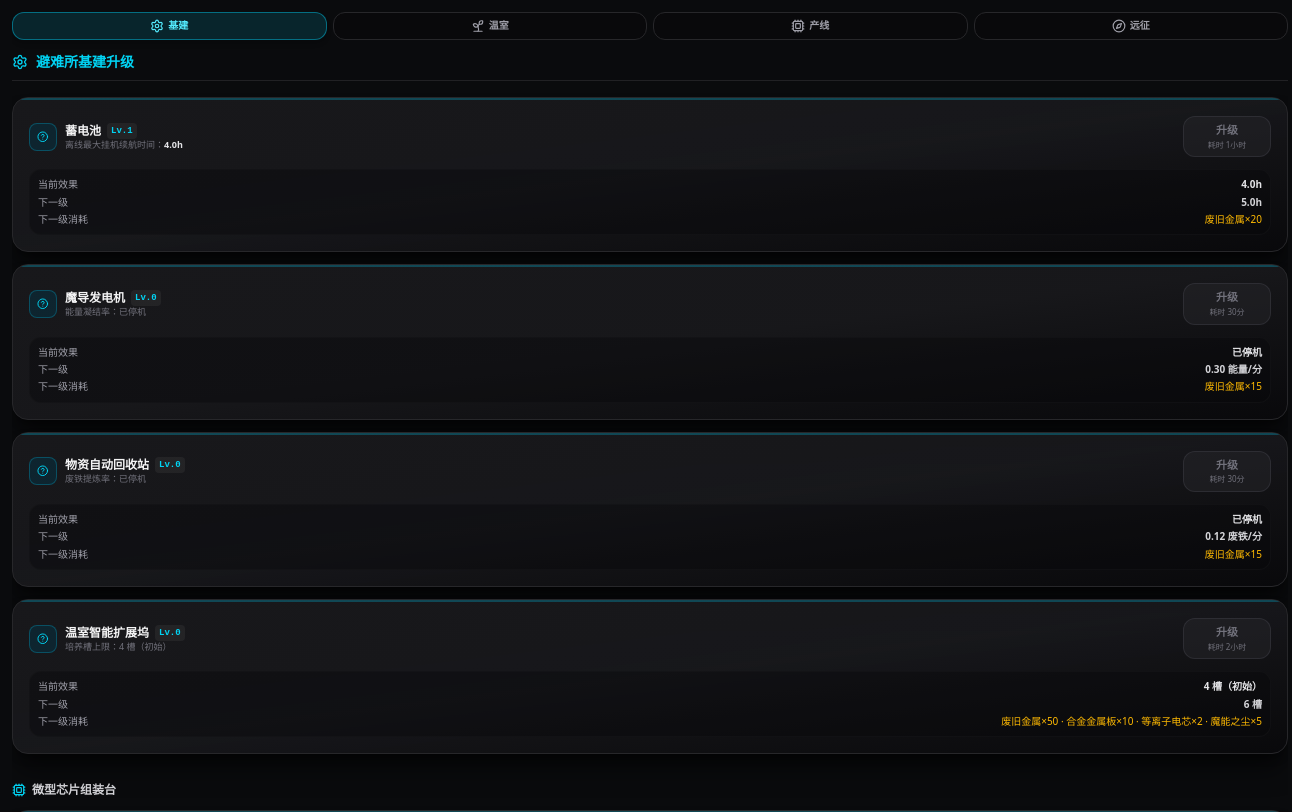
Scenario: 解锁条件隐藏产线设备（unlockRequirements） › 未满足前置升级条件（generator Lv1）时冶炼炉隐藏
What coordinates should you click on to do the following:
click the button "产线"
I would click on:
 (810, 26)
Its box is [653, 12, 968, 40].
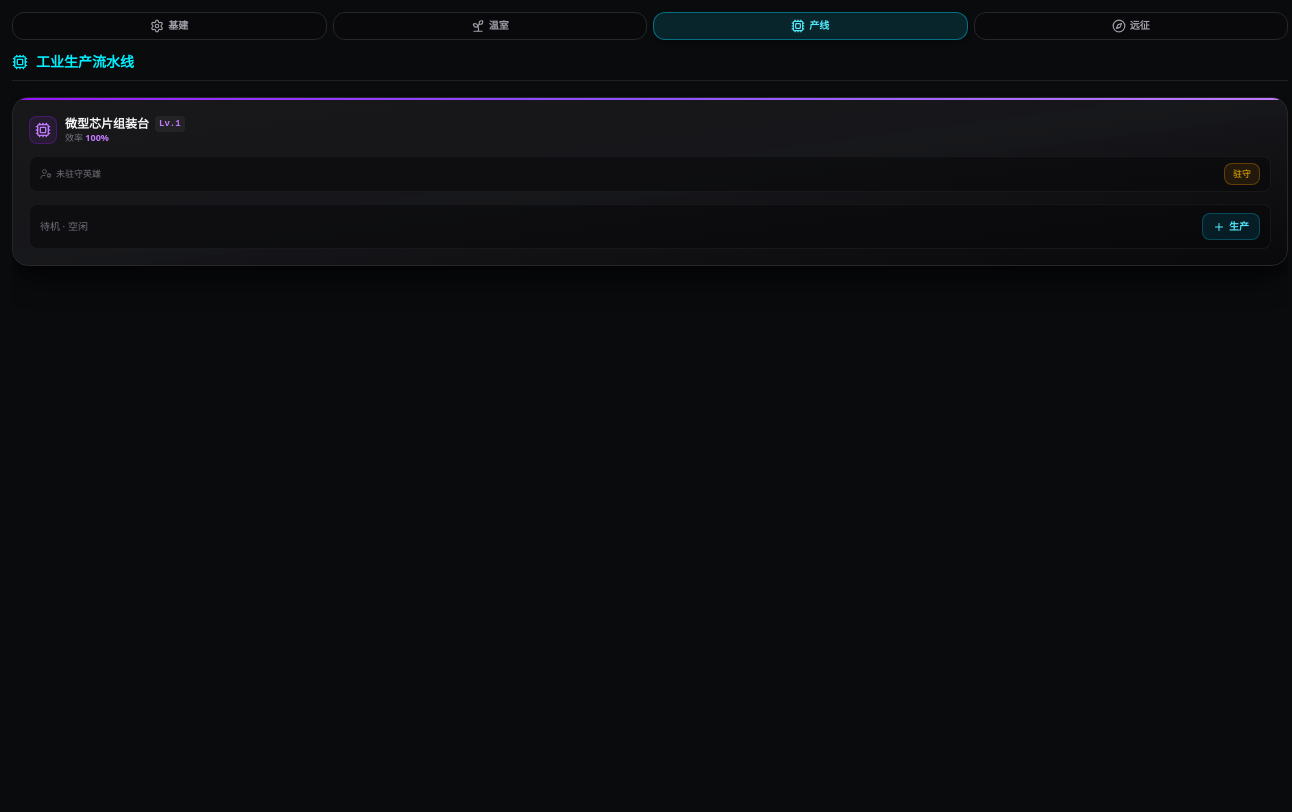
Expected: the text "待机 · 空闲" is shown once, [40, 220, 88, 233]
